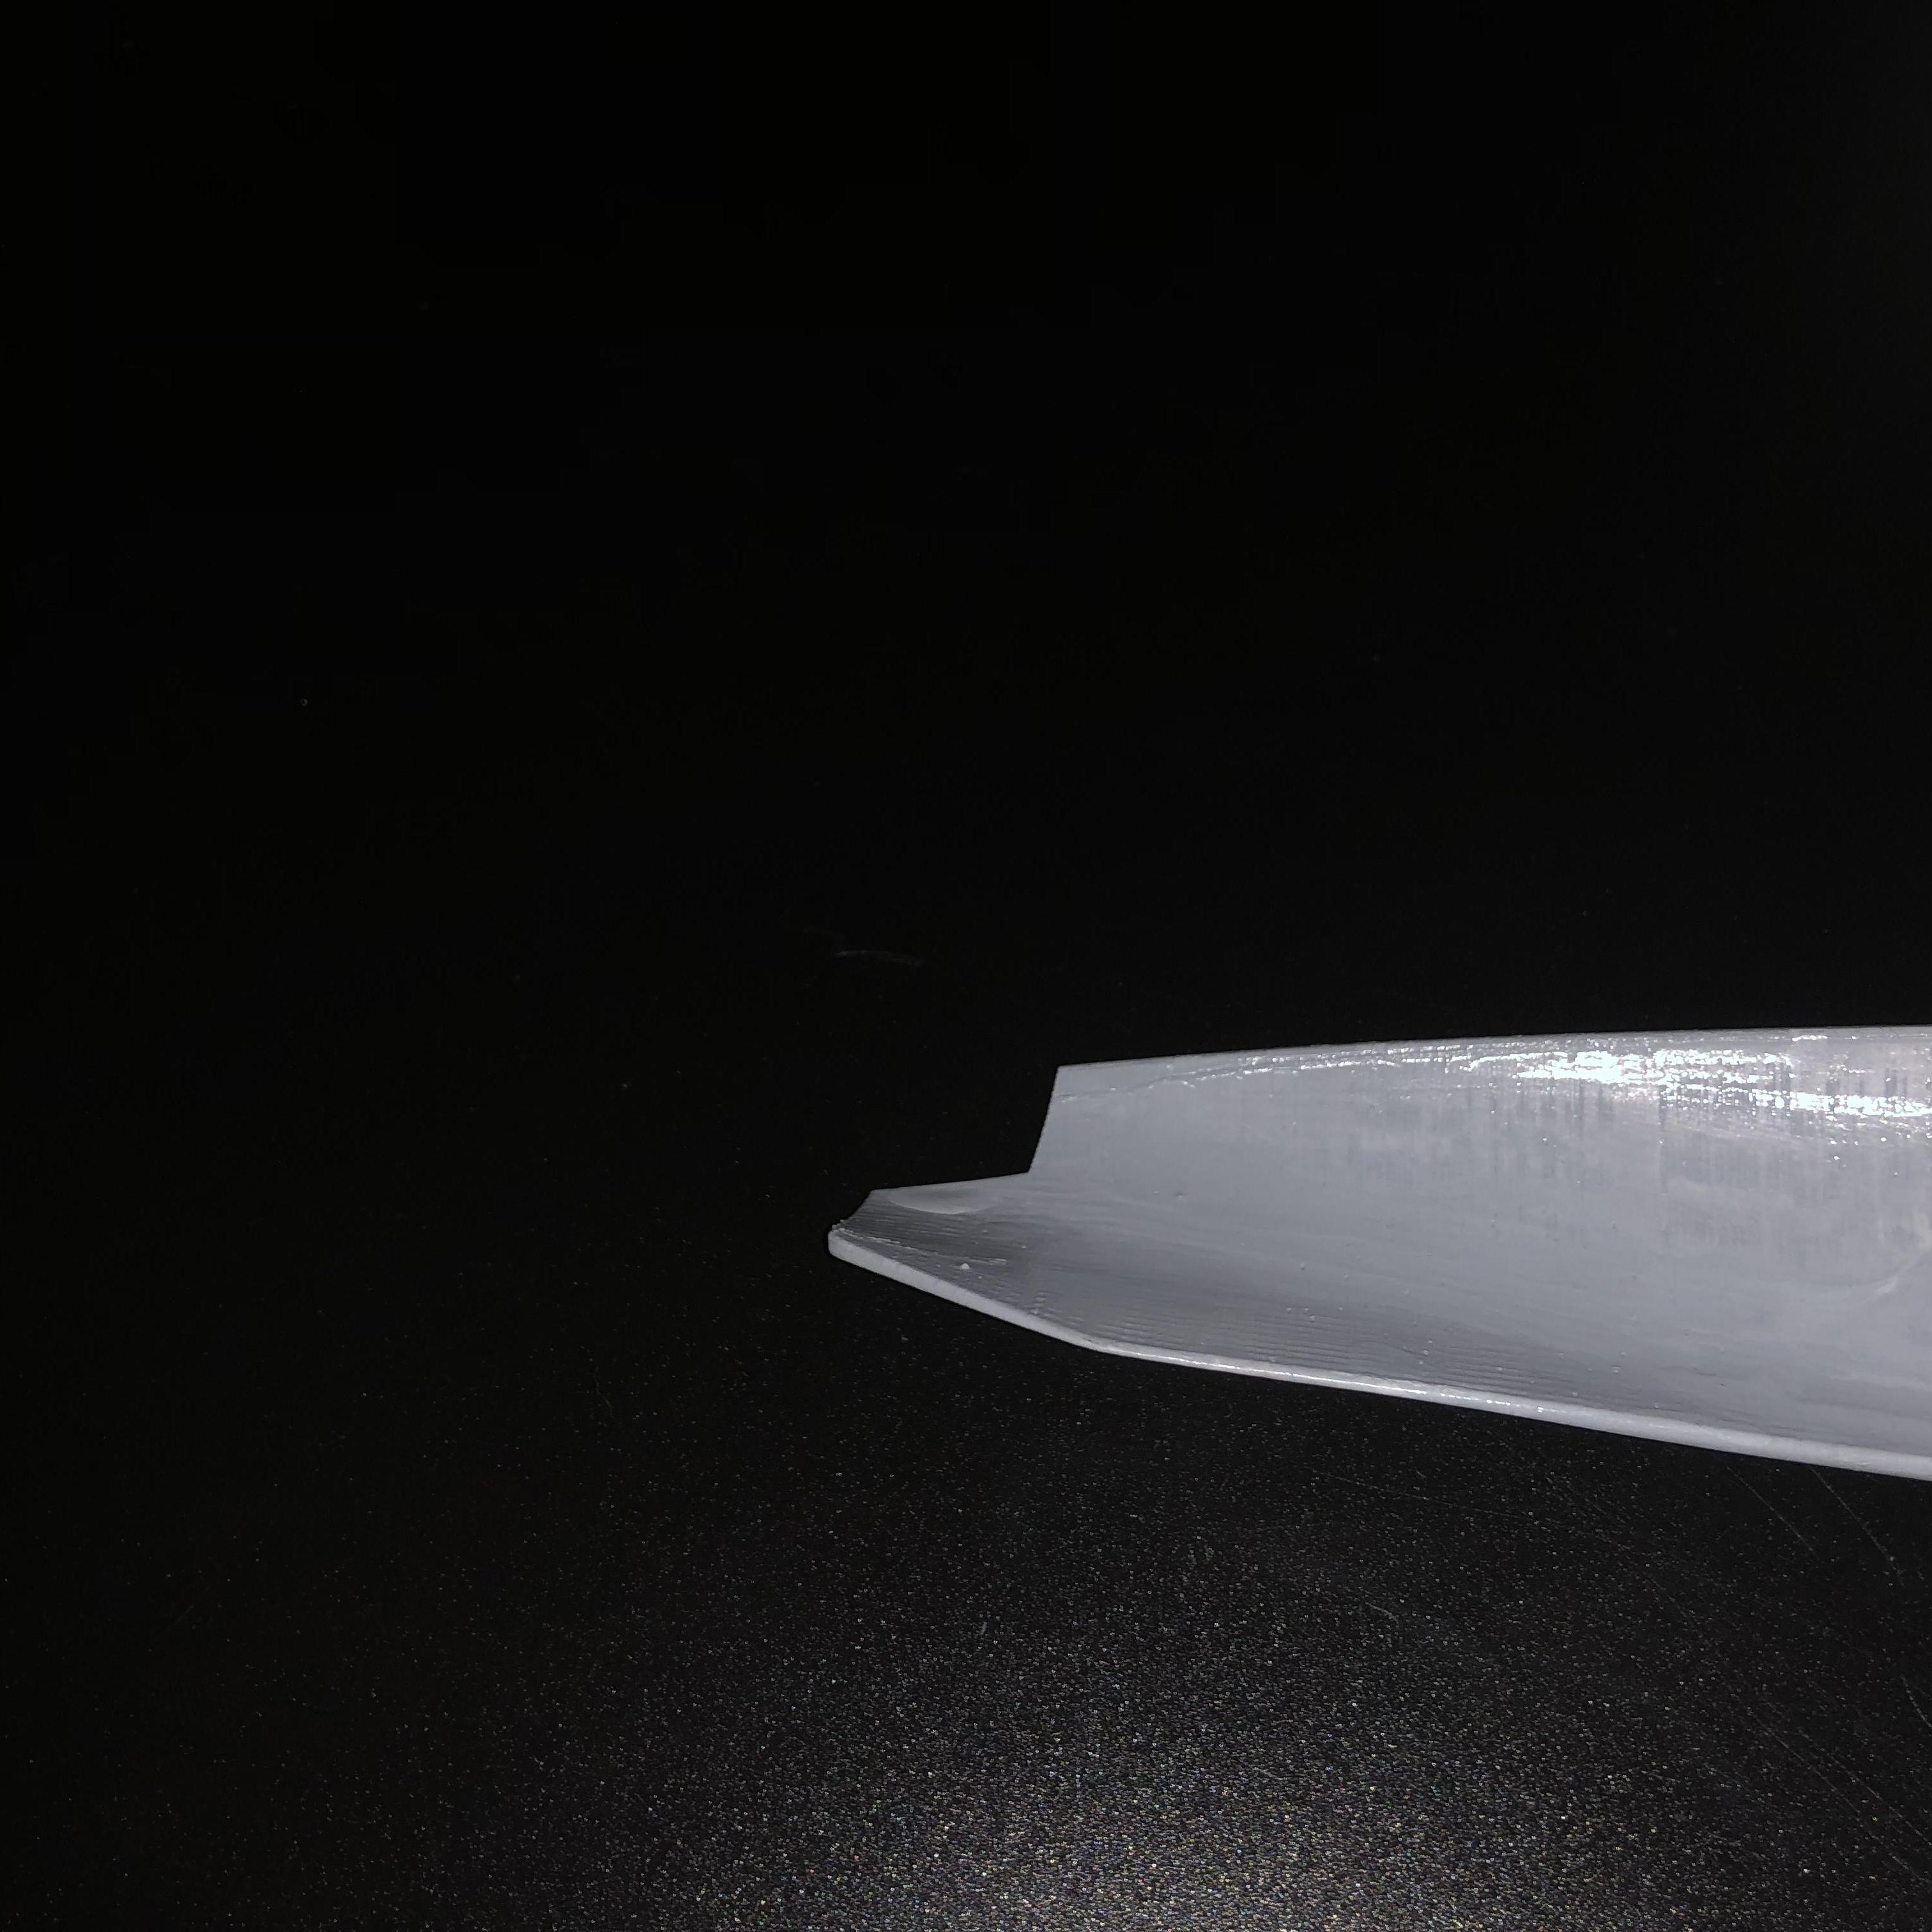fracture: (878, 1076, 1122, 1207)
